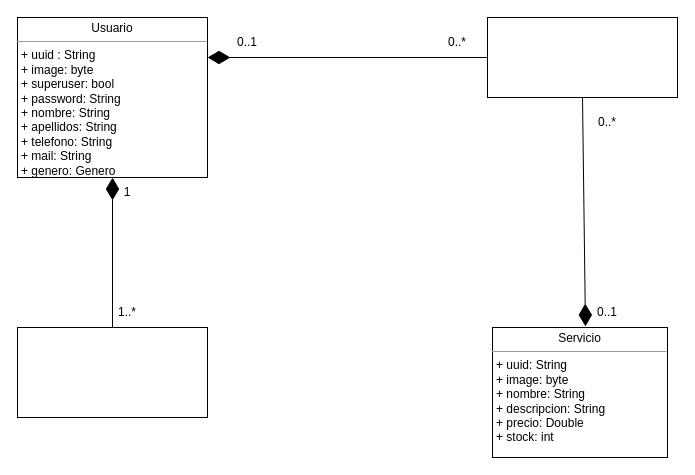
Some shapes in this 695 by 475 pixel diagram are drawn without their labels. Here are the shapes that lost their labels. From the top down, the centre of each, then its label:
At (582,57): "Cita + uuid: String + dia: Date + hora: Time".
At (112,372): "Login + uuid : String + token: String + instante: DateTime".
